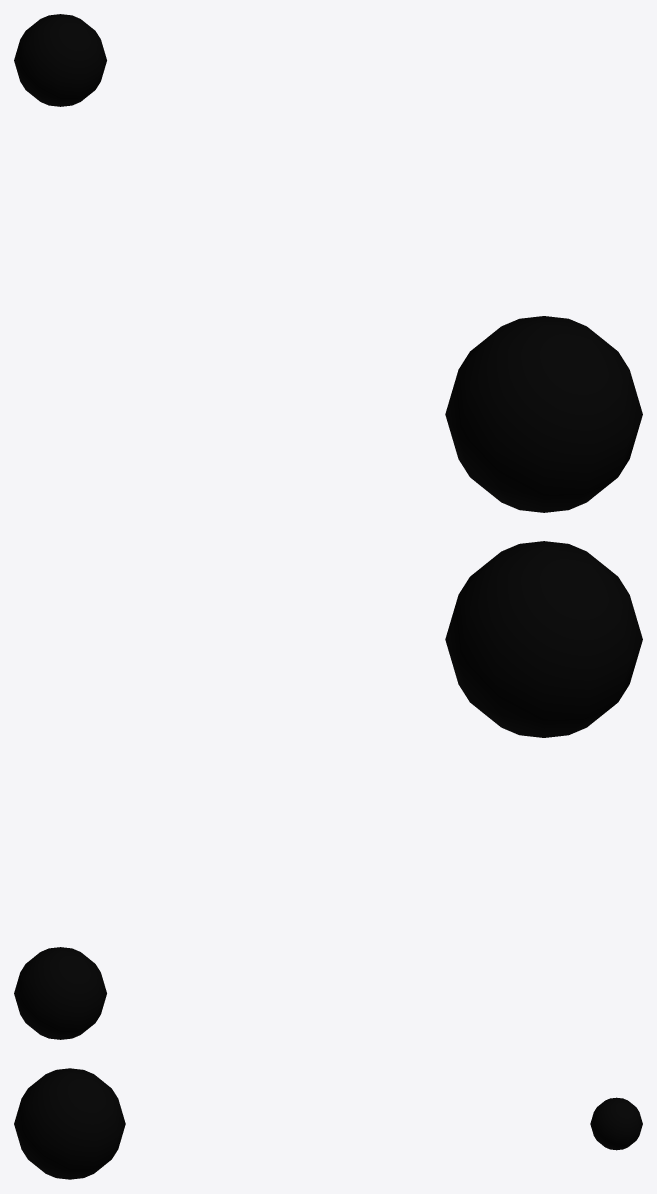
File: shengtianshifuwenmobang002.fbx
3 views of the same model, one above another, from view 1: azimuth 30°, elevation 25°; view 2: azimuth 150°, elevation 25°; view 3: azimuth 270°, elevation 25° (orthographic). The views are drawn at different scales.
Visible parts, largest first — view 1: shengtianshifuwenmobang002; view 2: shengtianshifuwenmobang002; view 3: shengtianshifuwenmobang002.
Boxes of the visible parts, x1,y1,x2,y2 form: shengtianshifuwenmobang002: (14,14,642,512); shengtianshifuwenmobang002: (14,541,642,1039); shengtianshifuwenmobang002: (14,1068,642,1179).
Size of the model in its own units: 40.83 by 40.83 by 230.
